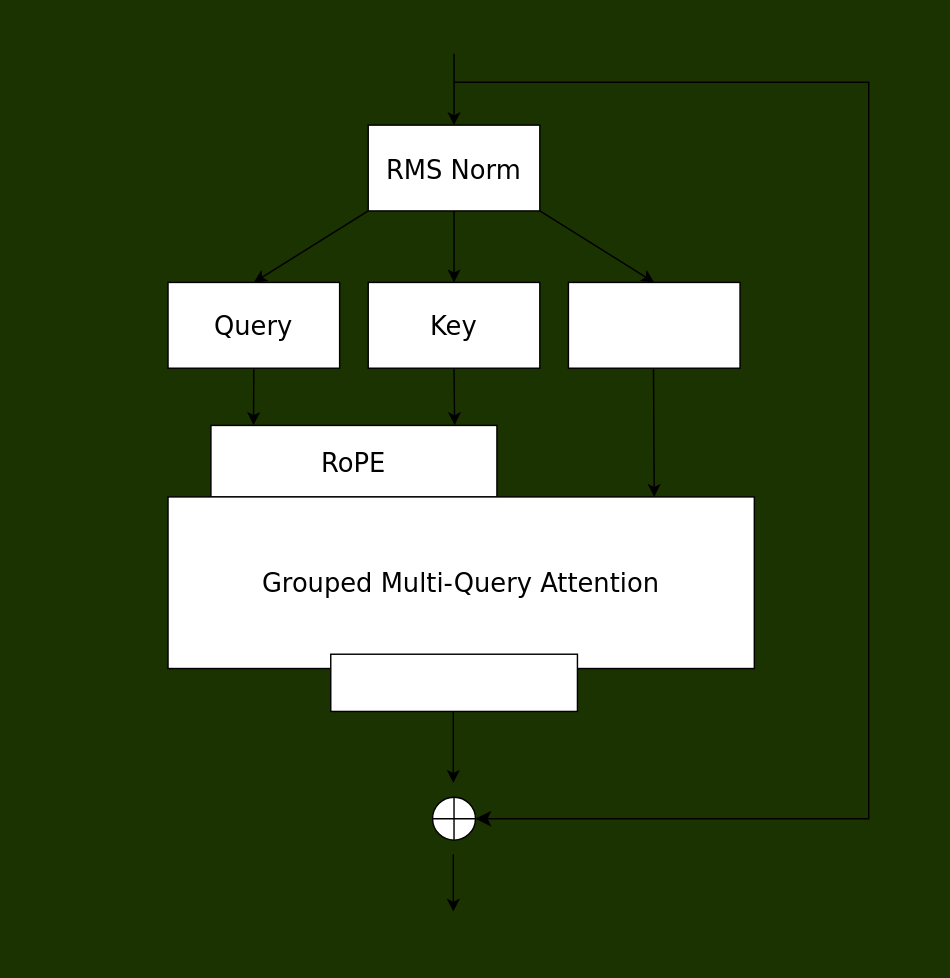
Image size: 950x978. Some labels were removed from this diagram. Each missing label, with the centre of its shape:
"Attention Output" belongs at pixel 453 682.
"Value" belongs at pixel 653 324.
